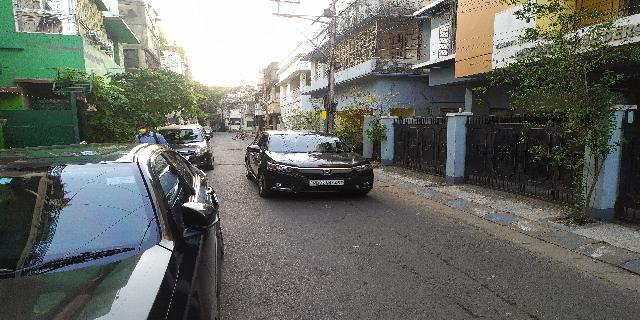Car: (1, 139, 227, 320), (246, 131, 382, 200)
